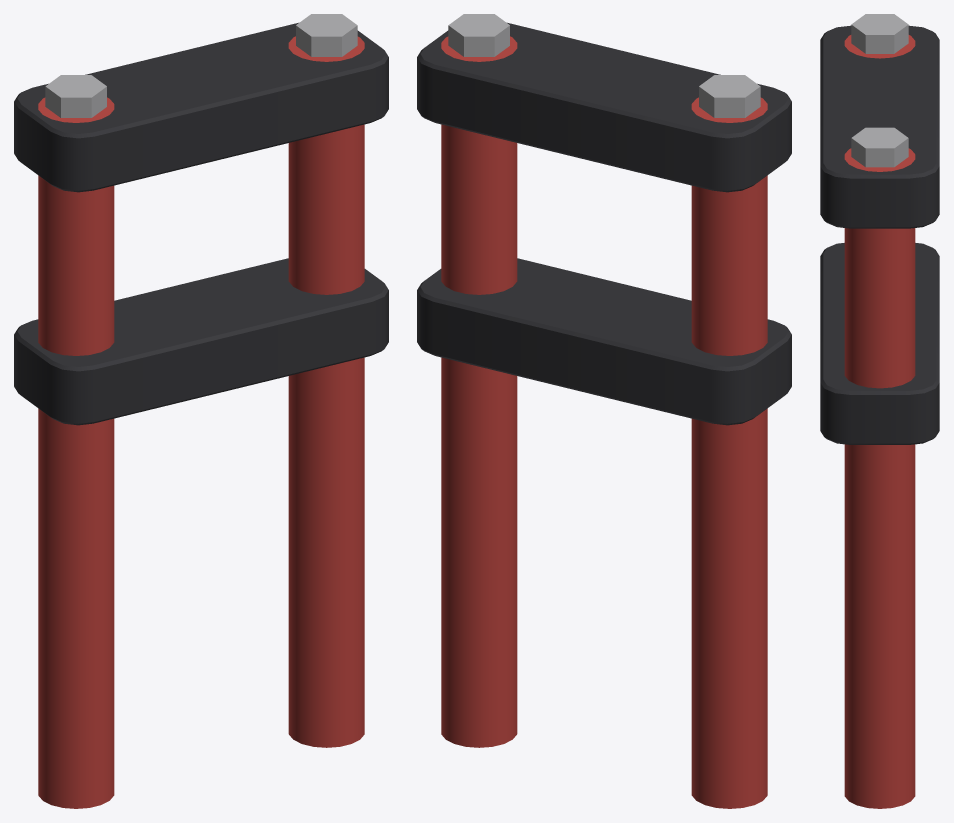
The model's file is scrambler_gaiter_long_upper.glb.
The picture shows the model from 3 angles, left to right: view 1: azimuth 30°, elevation 25°; view 2: azimuth 150°, elevation 25°; view 3: azimuth 270°, elevation 25°; orthographic projection. The views are drawn at different scales.
Visible parts, largest first — view 1: lod0; view 2: lod0; view 3: lod0.
Boxes of the visible parts, x1,y1,x2,y2 form: lod0: (14,14,388,808); lod0: (417,14,791,808); lod0: (820,14,939,808).
Size of what is drawn, in the model's own units: 0.24 by 0.485 by 0.08.
